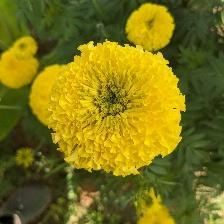marigold: (52, 40, 192, 182)
